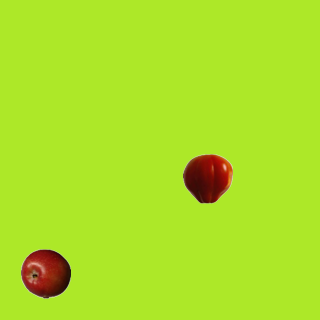Apple Braeburn: (20, 248, 70, 298)
Tomato 1: (182, 153, 232, 203)
